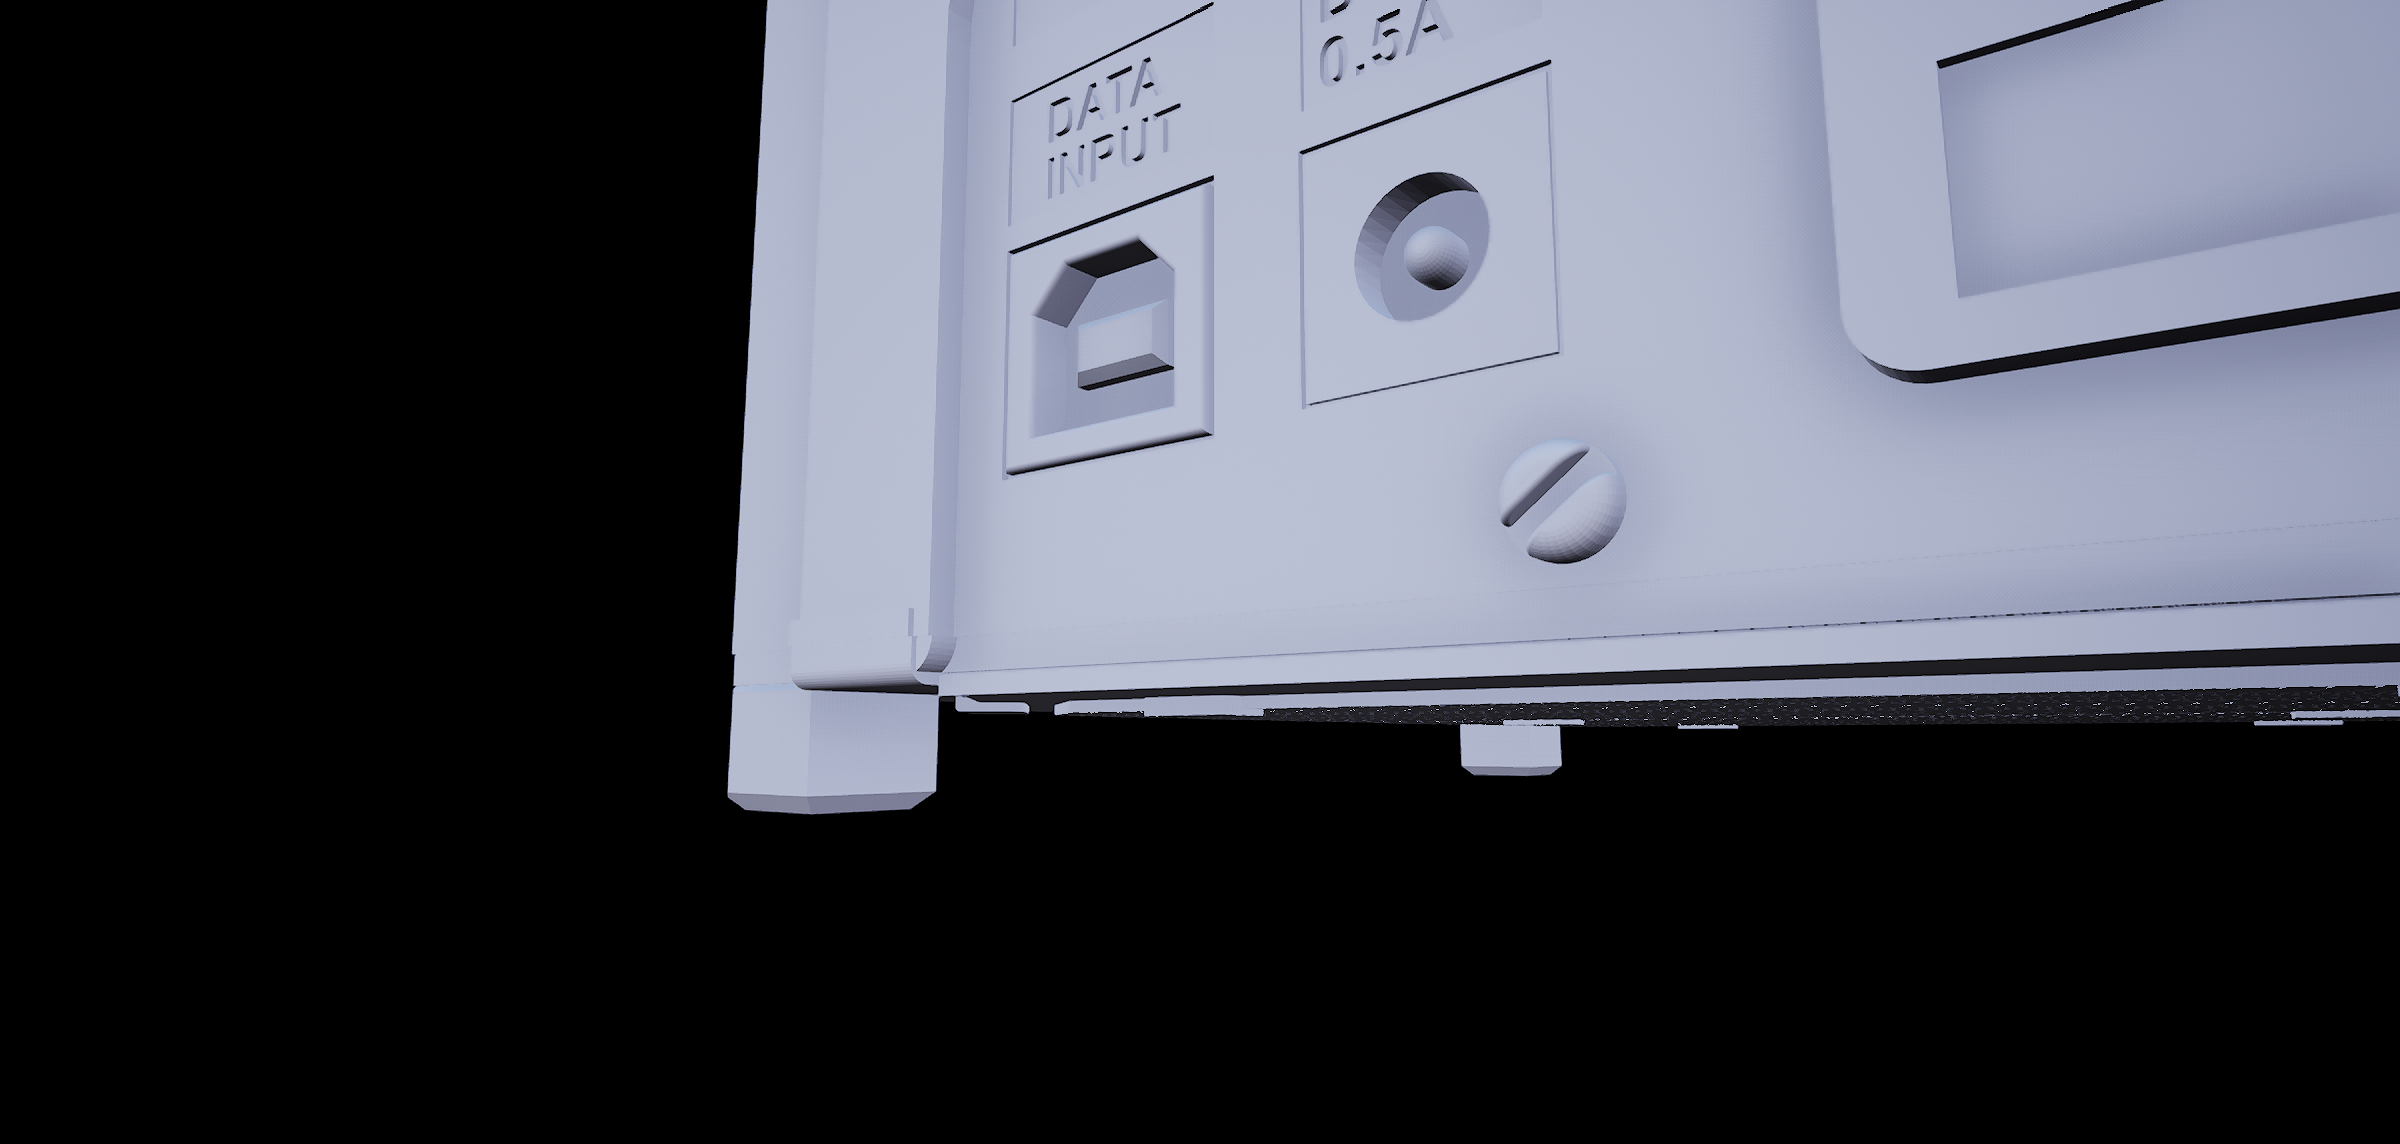dc: (1342, 170, 1500, 325)
usb: (1019, 248, 1185, 429)
